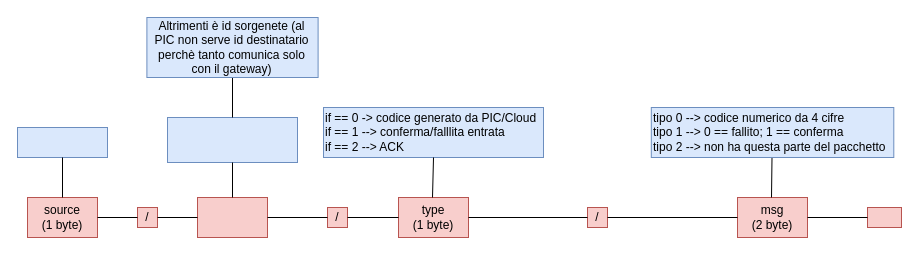
The diagram is 919 pixels wide and 255 high, and some of its shapes have lost their labels. The centre of each missing label's shape, as x and y in pixels:
"/r/n" belongs at pixel 884 217.
"id_PIC (1 byte)" belongs at pixel 232 217.
"if == 0 -> PIC if == 1 -> RASP" belongs at pixel 62 142.
"Se il mittente è il Raspberry, questo diventa id destinatario" belongs at pixel 232 139.
